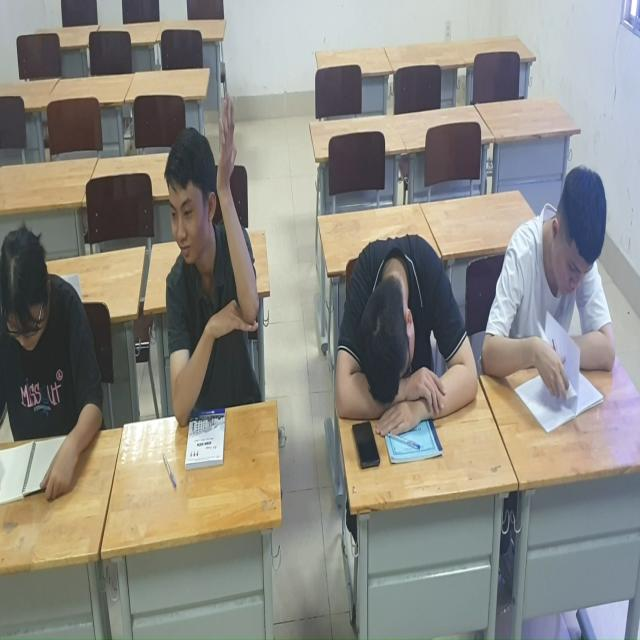raise_hand: (153, 104, 264, 488)
read: (487, 155, 633, 430), (2, 227, 106, 499)
sleep: (328, 218, 483, 455)
